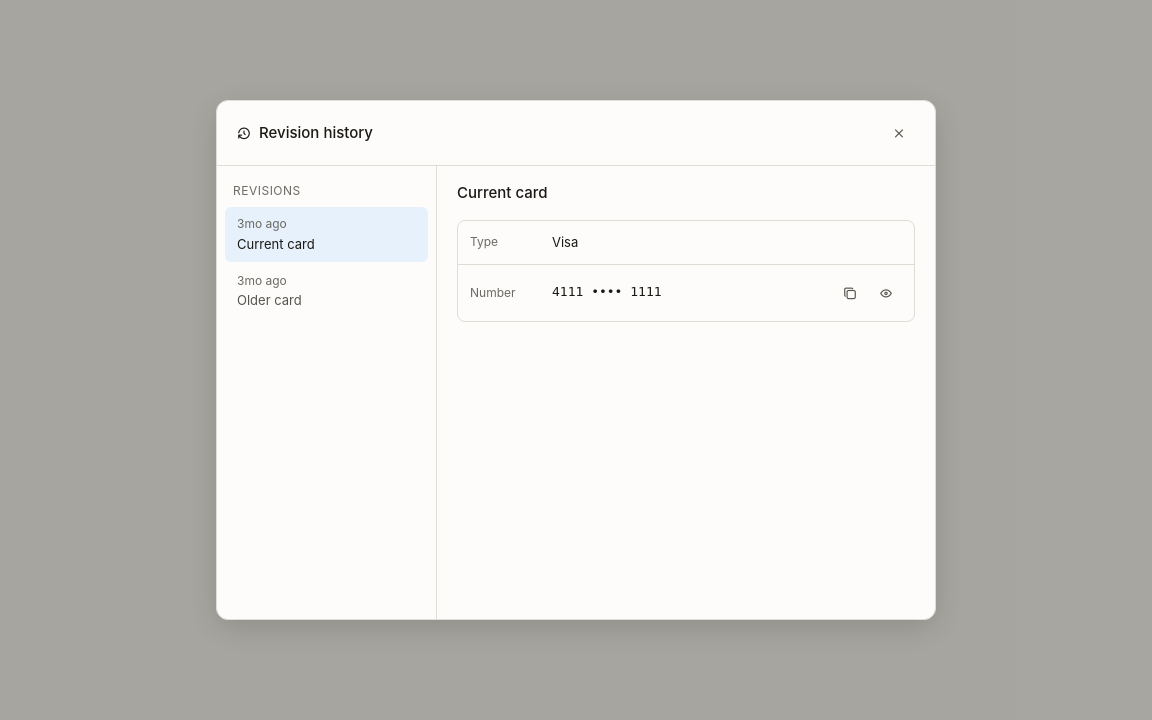
HistoryDialog › reveals historical card numbers only on request and hides them on revision changes
Expected: the text "4111 •••• 1111" is shown, [552,284,662,299]
Click the button named "Reveal number".
click(886, 293)  # box [870,277,902,309]
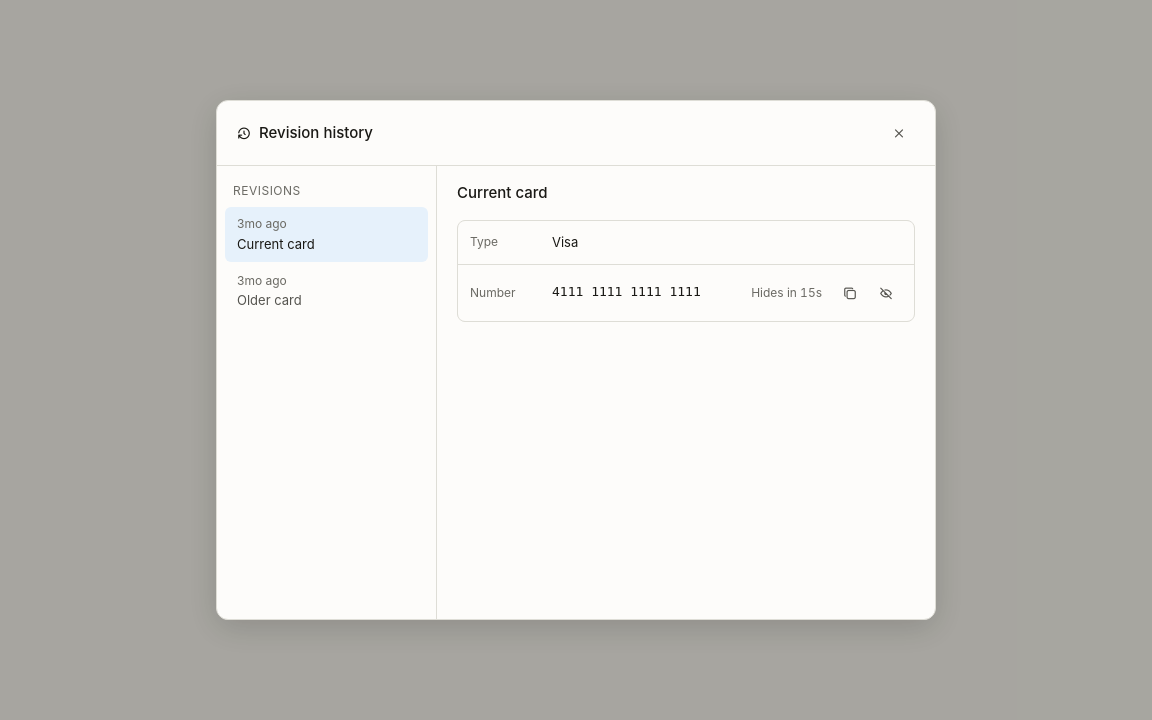
Result: the text "4111 1111 1111 1111" is shown at [552,284,701,299]
Click the button "3mo ago Older card".
click(326, 291)  # box [225,264,428,318]
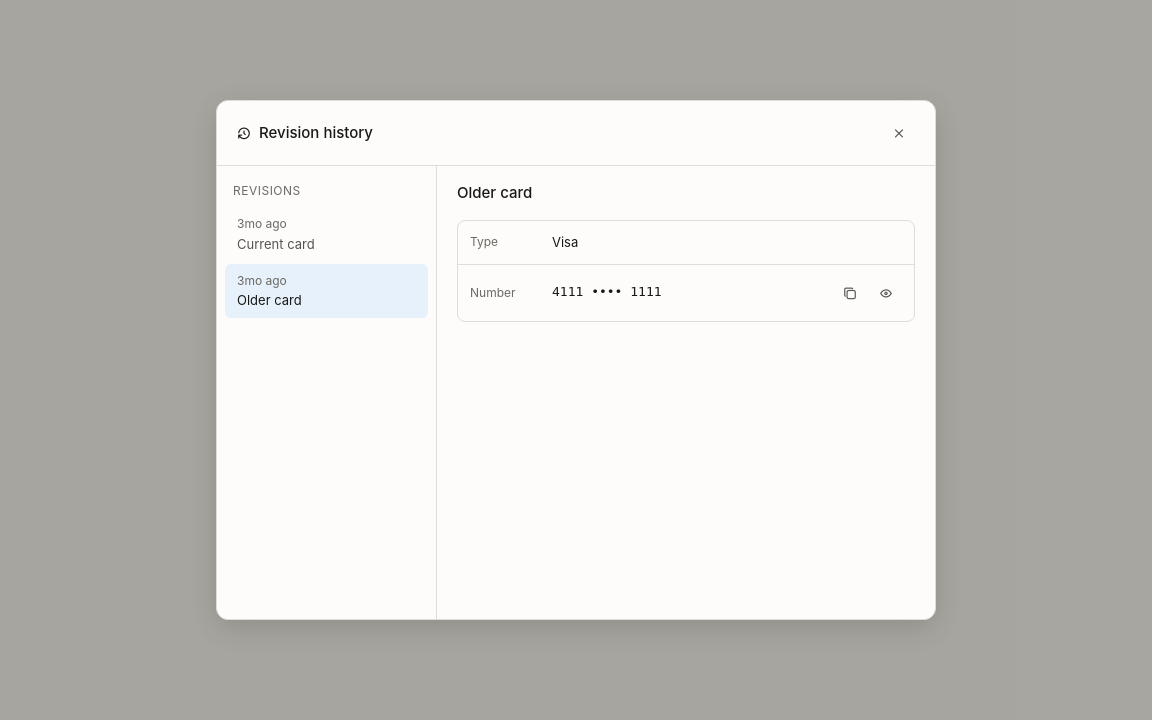
Result: the text "4111 1111 1111 1111" is gone
